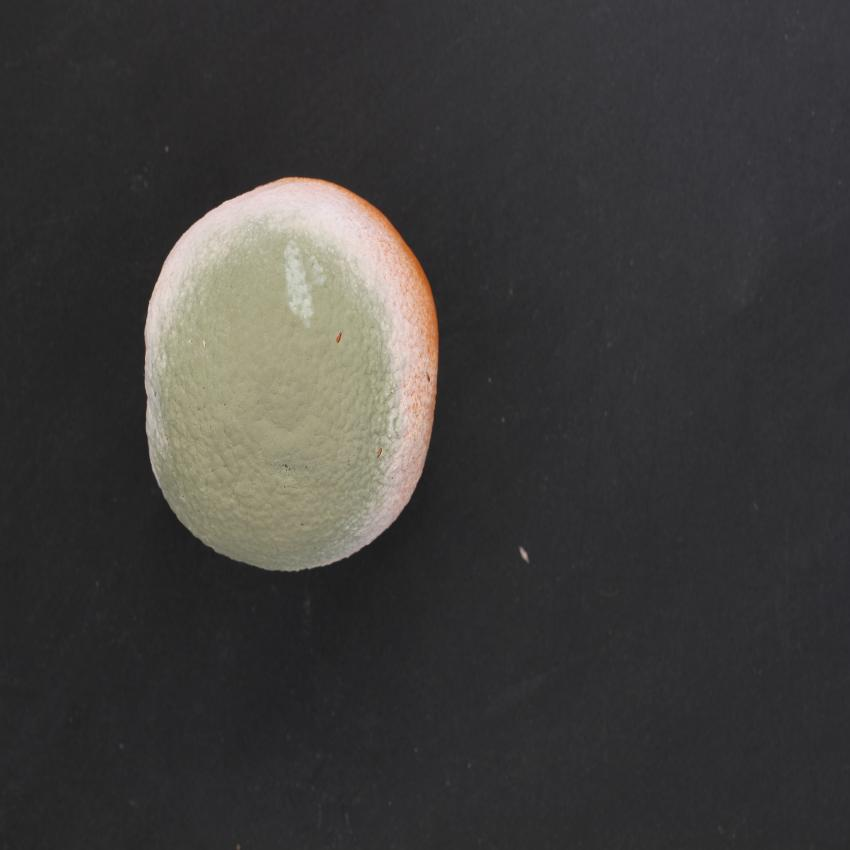Mal estado: (137, 163, 458, 592)
